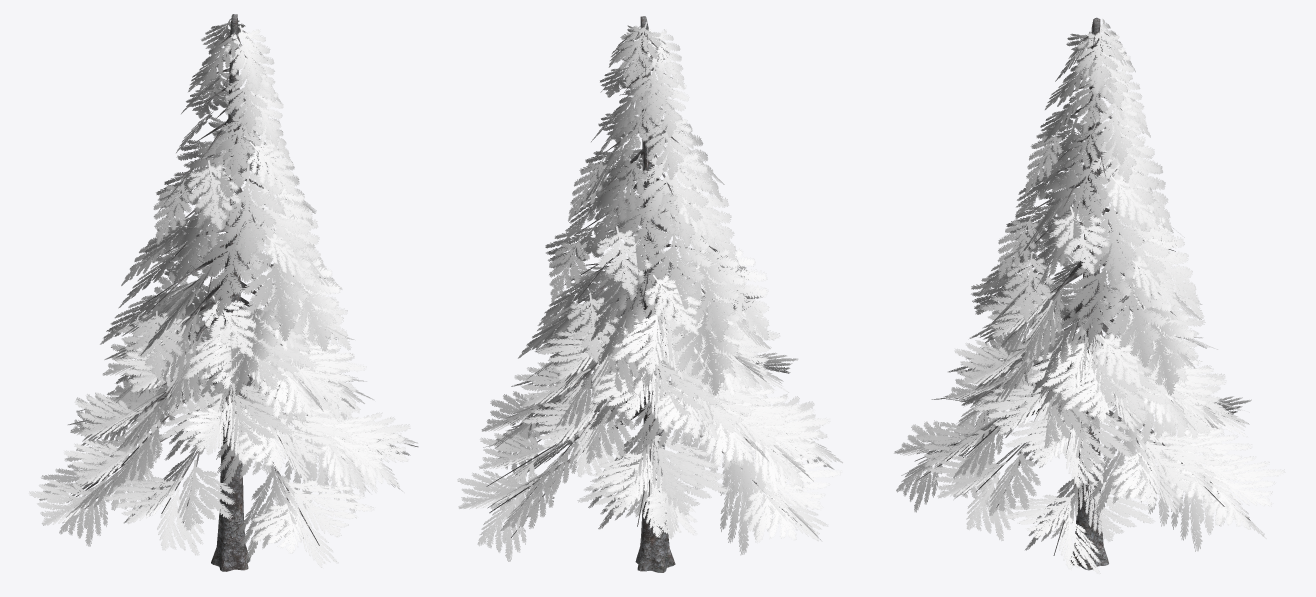
The model's file is Spruce_LOD0_P3310_B2930_L380_v06.fbx.
3 views of the same model, side by side, from view 1: azimuth 30°, elevation 25°; view 2: azimuth 150°, elevation 25°; view 3: azimuth 270°, elevation 25° (orthographic).
Parts seen in each view (by area): view 1: leafcard_spruce_01_1, sprucebark_0; view 2: leafcard_spruce_01_1, sprucebark_0; view 3: leafcard_spruce_01_1, sprucebark_0.
Boxes of the visible parts, x1,y1,x2,y2 form: leafcard_spruce_01_1: (29, 19, 417, 567); sprucebark_0: (67, 14, 418, 571); leafcard_spruce_01_1: (457, 21, 842, 561); sprucebark_0: (486, 16, 801, 572); leafcard_spruce_01_1: (894, 19, 1285, 573); sprucebark_0: (914, 17, 1250, 570).
Bounding box in the file's own units: 414 × 608 × 411.
